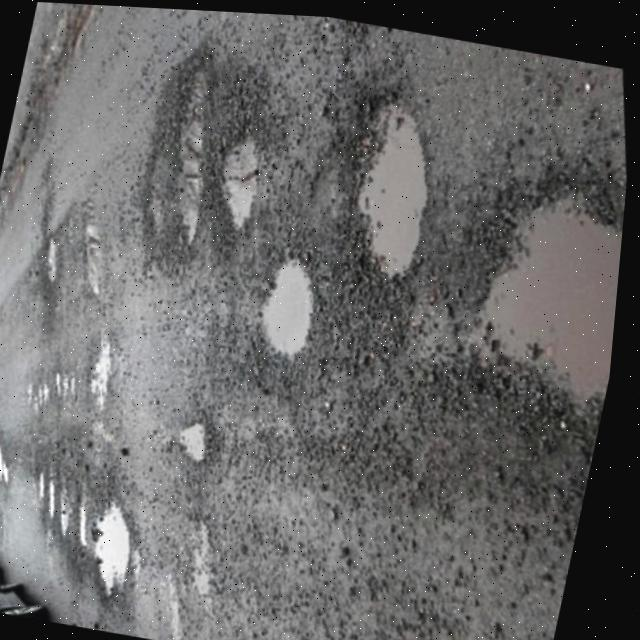Pothole: (378, 107, 634, 490), (295, 64, 479, 311), (110, 50, 253, 258), (230, 234, 343, 375), (187, 115, 291, 242), (77, 489, 166, 616), (69, 327, 141, 413), (61, 213, 126, 300), (168, 400, 230, 472), (33, 232, 74, 285), (44, 472, 74, 519), (60, 494, 88, 539), (0, 442, 26, 486), (37, 466, 63, 502)
